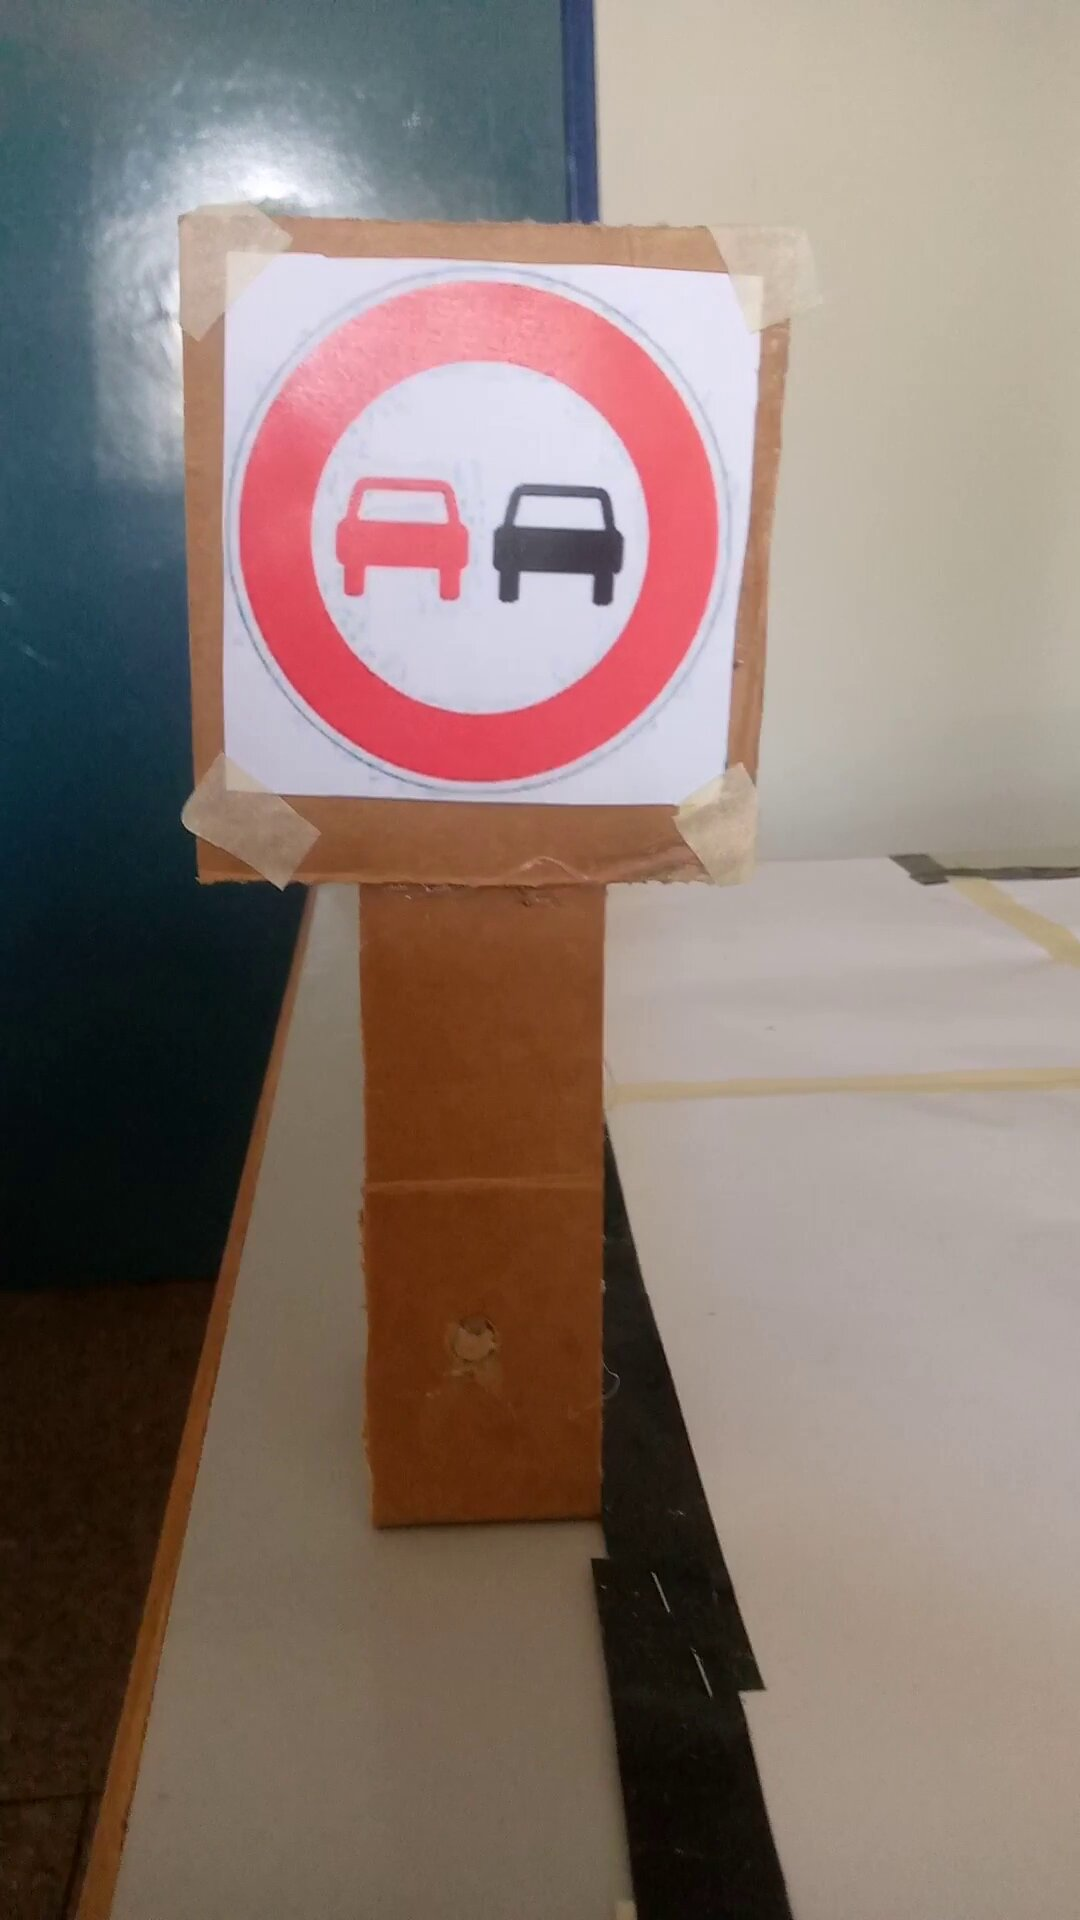panel100: (207, 229, 741, 837)
